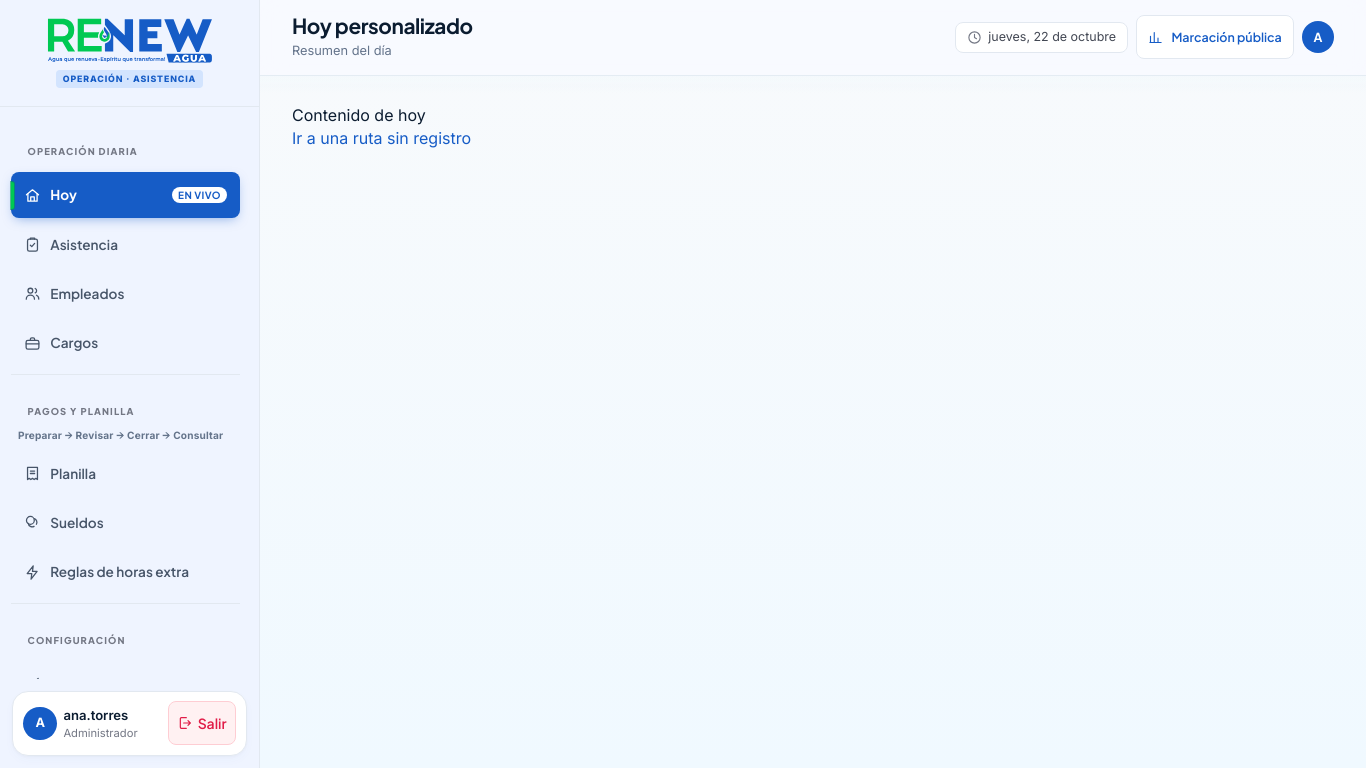
Test: AdminShellLayout — host persistente › conserva sidebar, topbar y main entre rutas y actualiza el título
(page scrolled)
Expected: the heading "Hoy personalizado" is shown, [292,14,473,39]
Expected: the element with id "admin-sidebar" is shown, [0,0,260,767]
Click the link "Asistencia". click: point(71, 244)
box: [24,236,118,253]
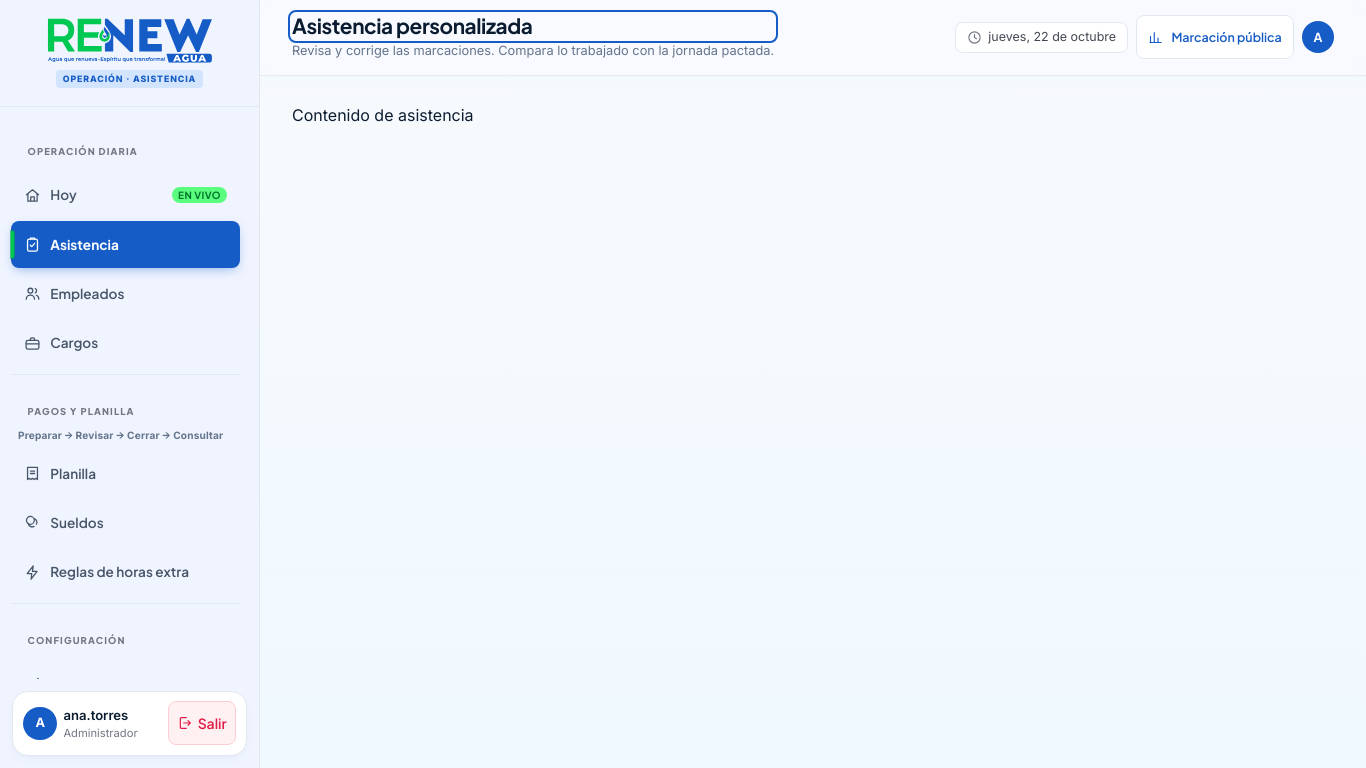
Expected: the text "Contenido de asistencia" is shown, [292,105,474,125]
Expected: the heading "Asistencia personalizada" is shown, [292,12,532,39]
Expected: the heading "Hoy personalizado" is gone
